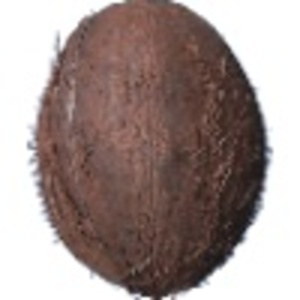coco: (29, 1, 273, 300)
